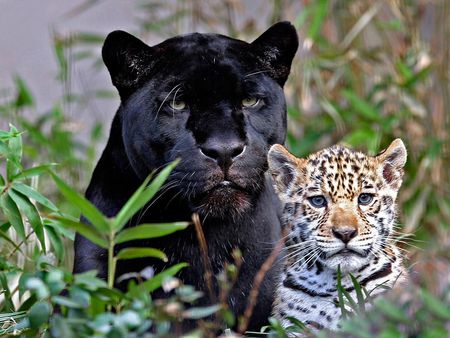leopard: (270, 138, 408, 338)
panther: (49, 19, 296, 336)
